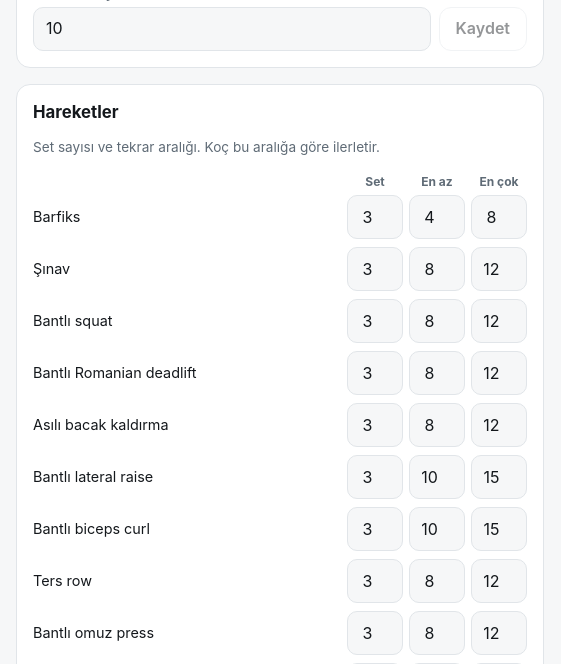
Test: hareket tekrar aralığında alt sınır üst sınırdan küçük olmalı
(page scrolled)
Replace the text in the number field named "Bantlı squat en az tekrar" with "13": {"x": 437, "y": 321} [409, 299, 465, 343]
(page scrolled)
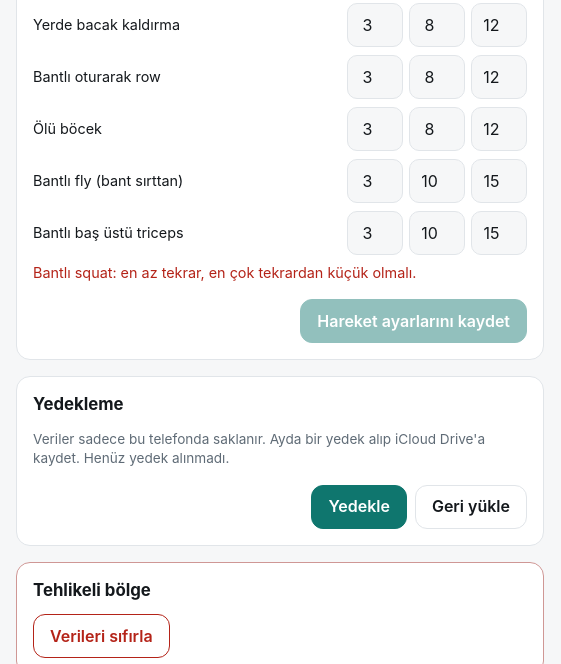
Result: the button "Hareket ayarlarını kaydet" is disabled at [300, 299, 527, 343]
Result: the text "Bantlı squat: en az tekrar, en çok tekrardan küçük olmalı." is shown at [33, 264, 416, 281]
